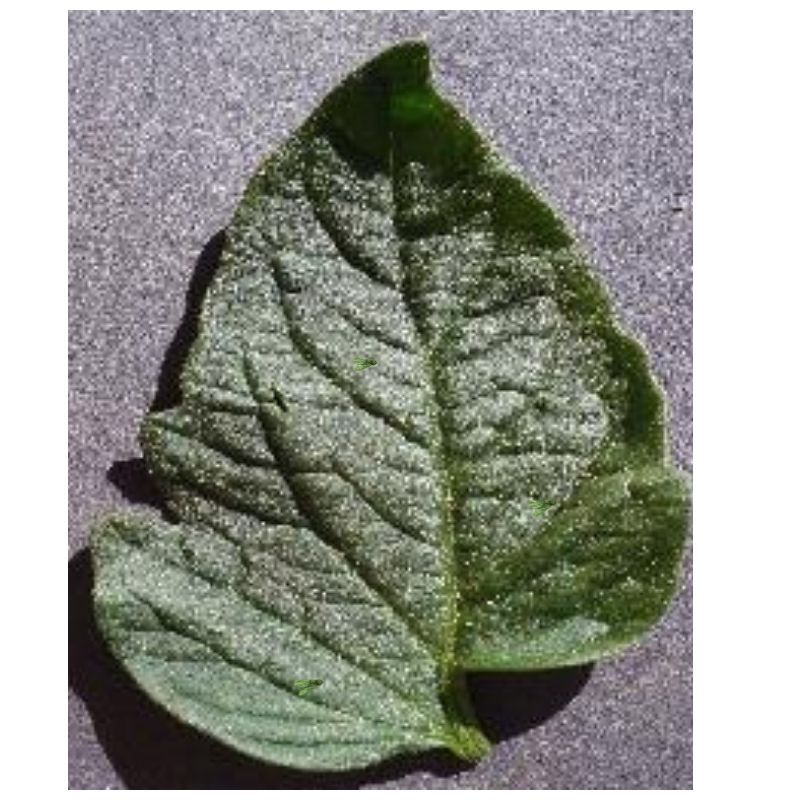liriomyza: (525, 495, 559, 517), (293, 677, 323, 696), (352, 355, 378, 372)
